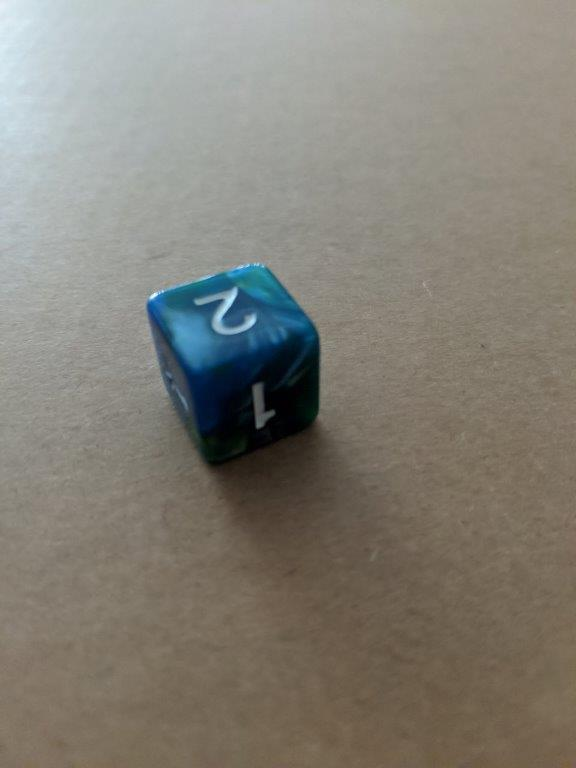d6-2: (146, 258, 325, 468)
